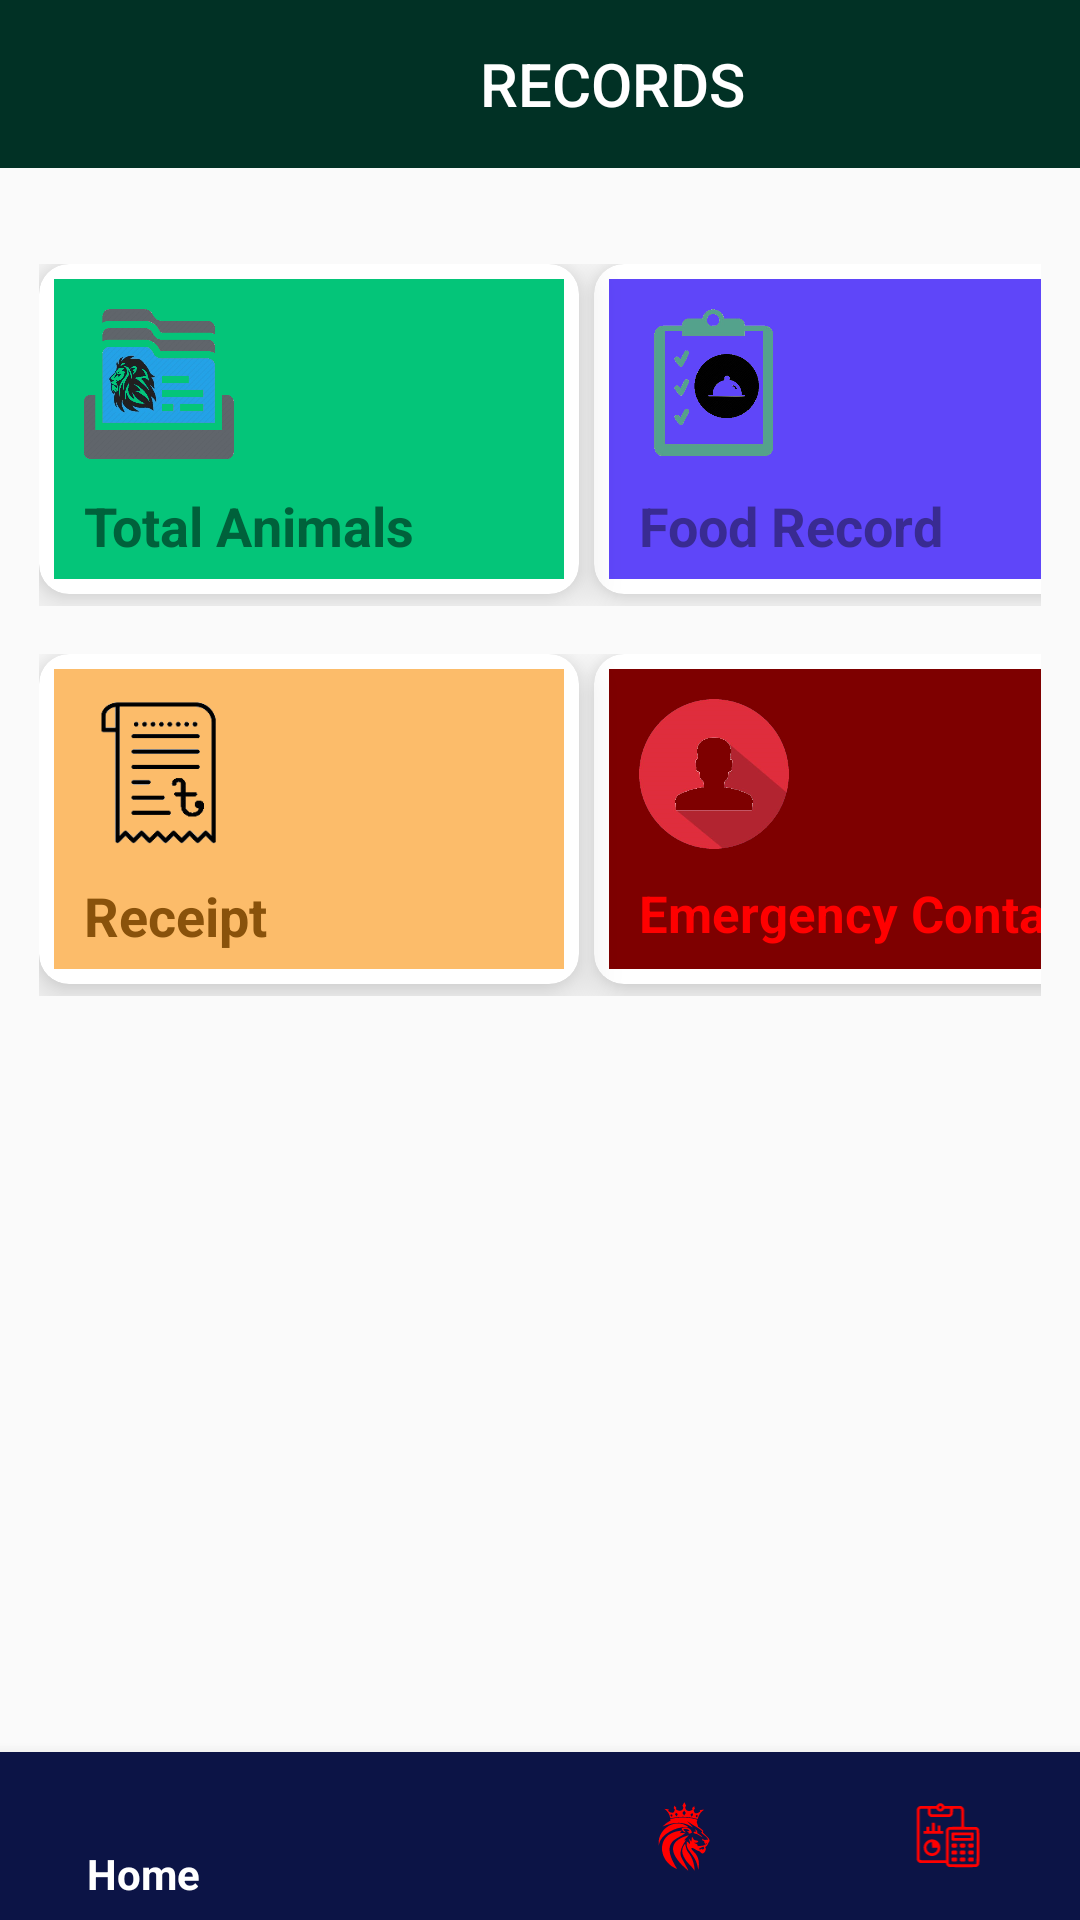

Locate icon controls on the screen. Image size 1080*1920, boxes as (left=x1, top=y1, right=x2, bottom=y2).
econtact: (left=639, top=699, right=789, bottom=849)
records: (left=84, top=309, right=234, bottom=459)
taka: (left=101, top=702, right=216, bottom=843)
